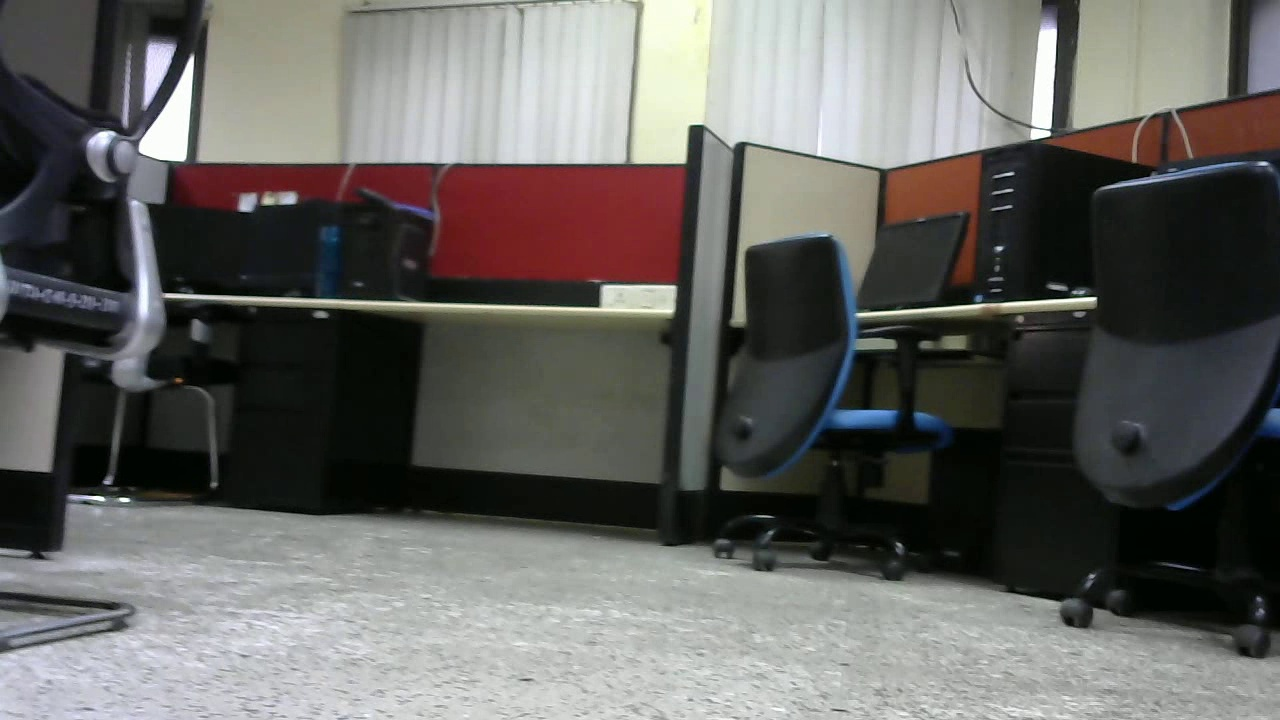chair: (708, 220, 952, 579)
